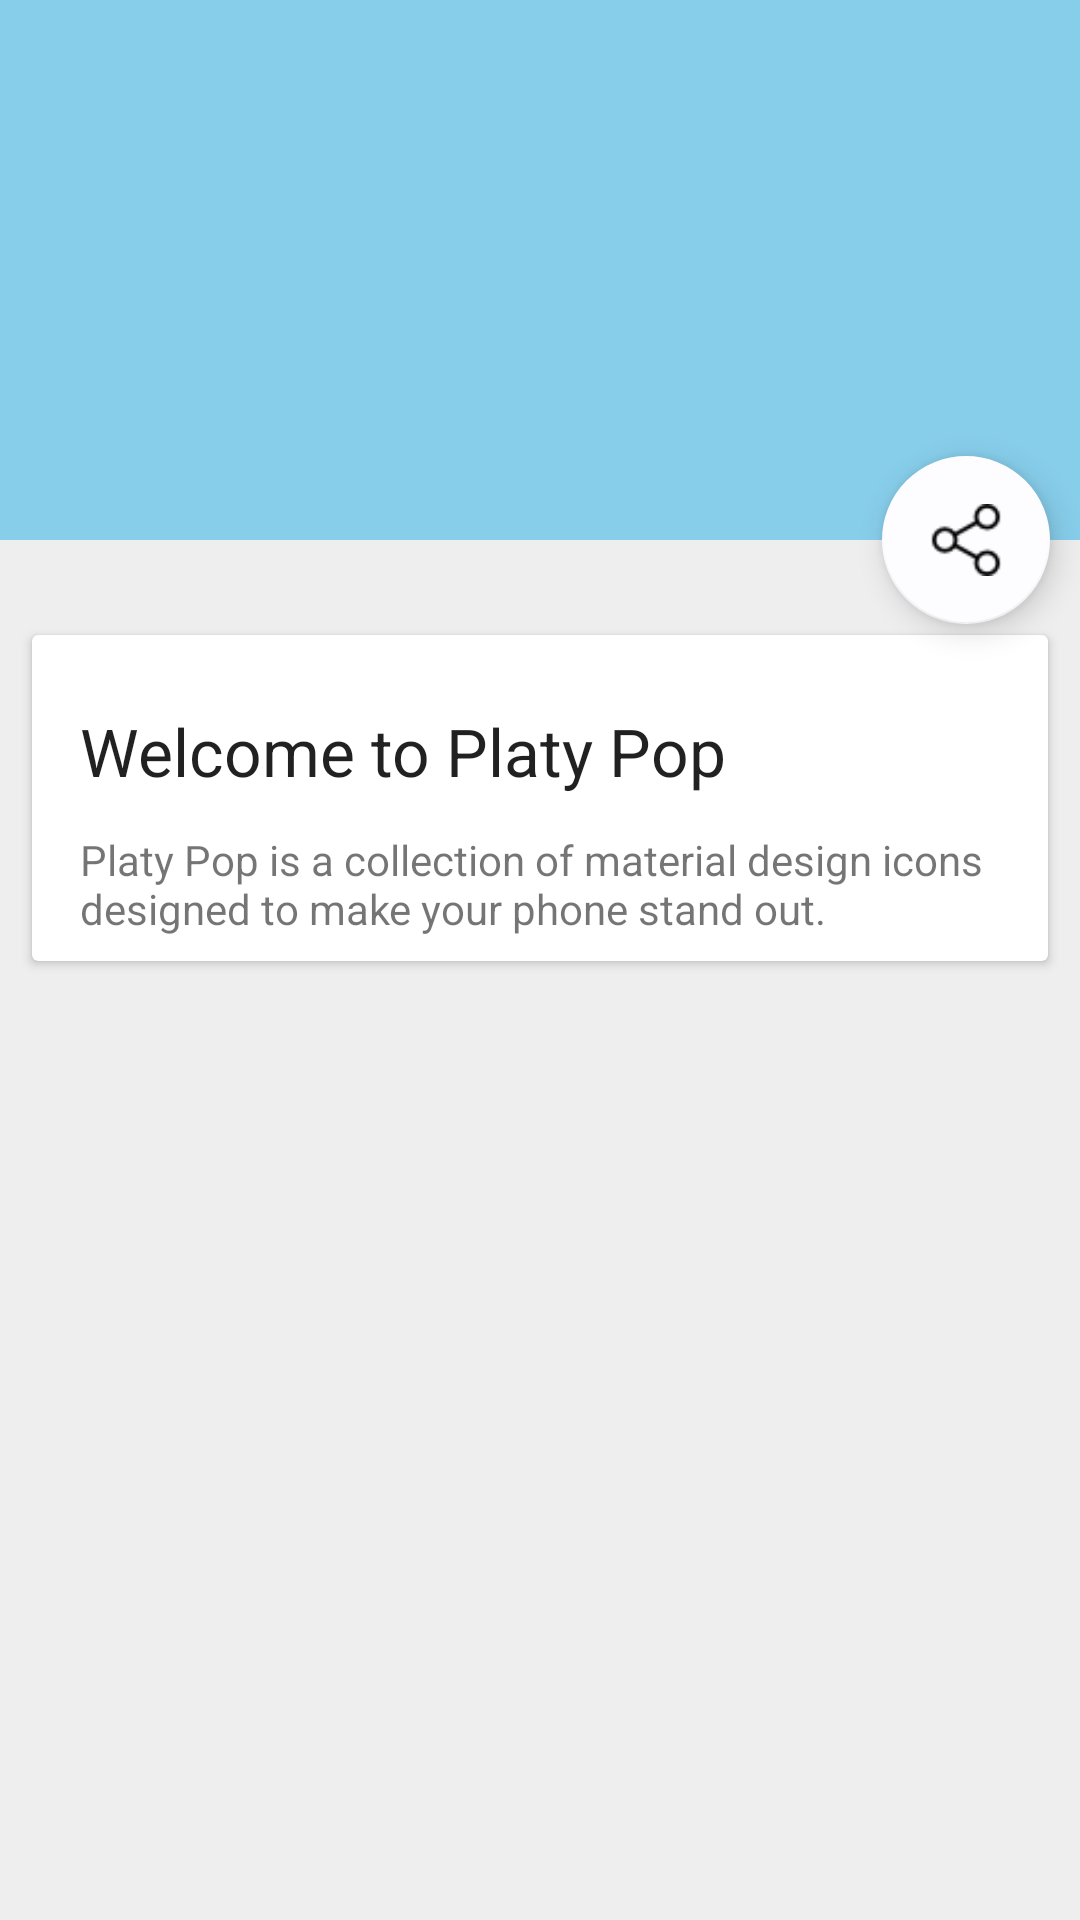

Screen size 1080x1920. Icon name, then its center in pixels as point (x, y):
share: point (966, 540)
